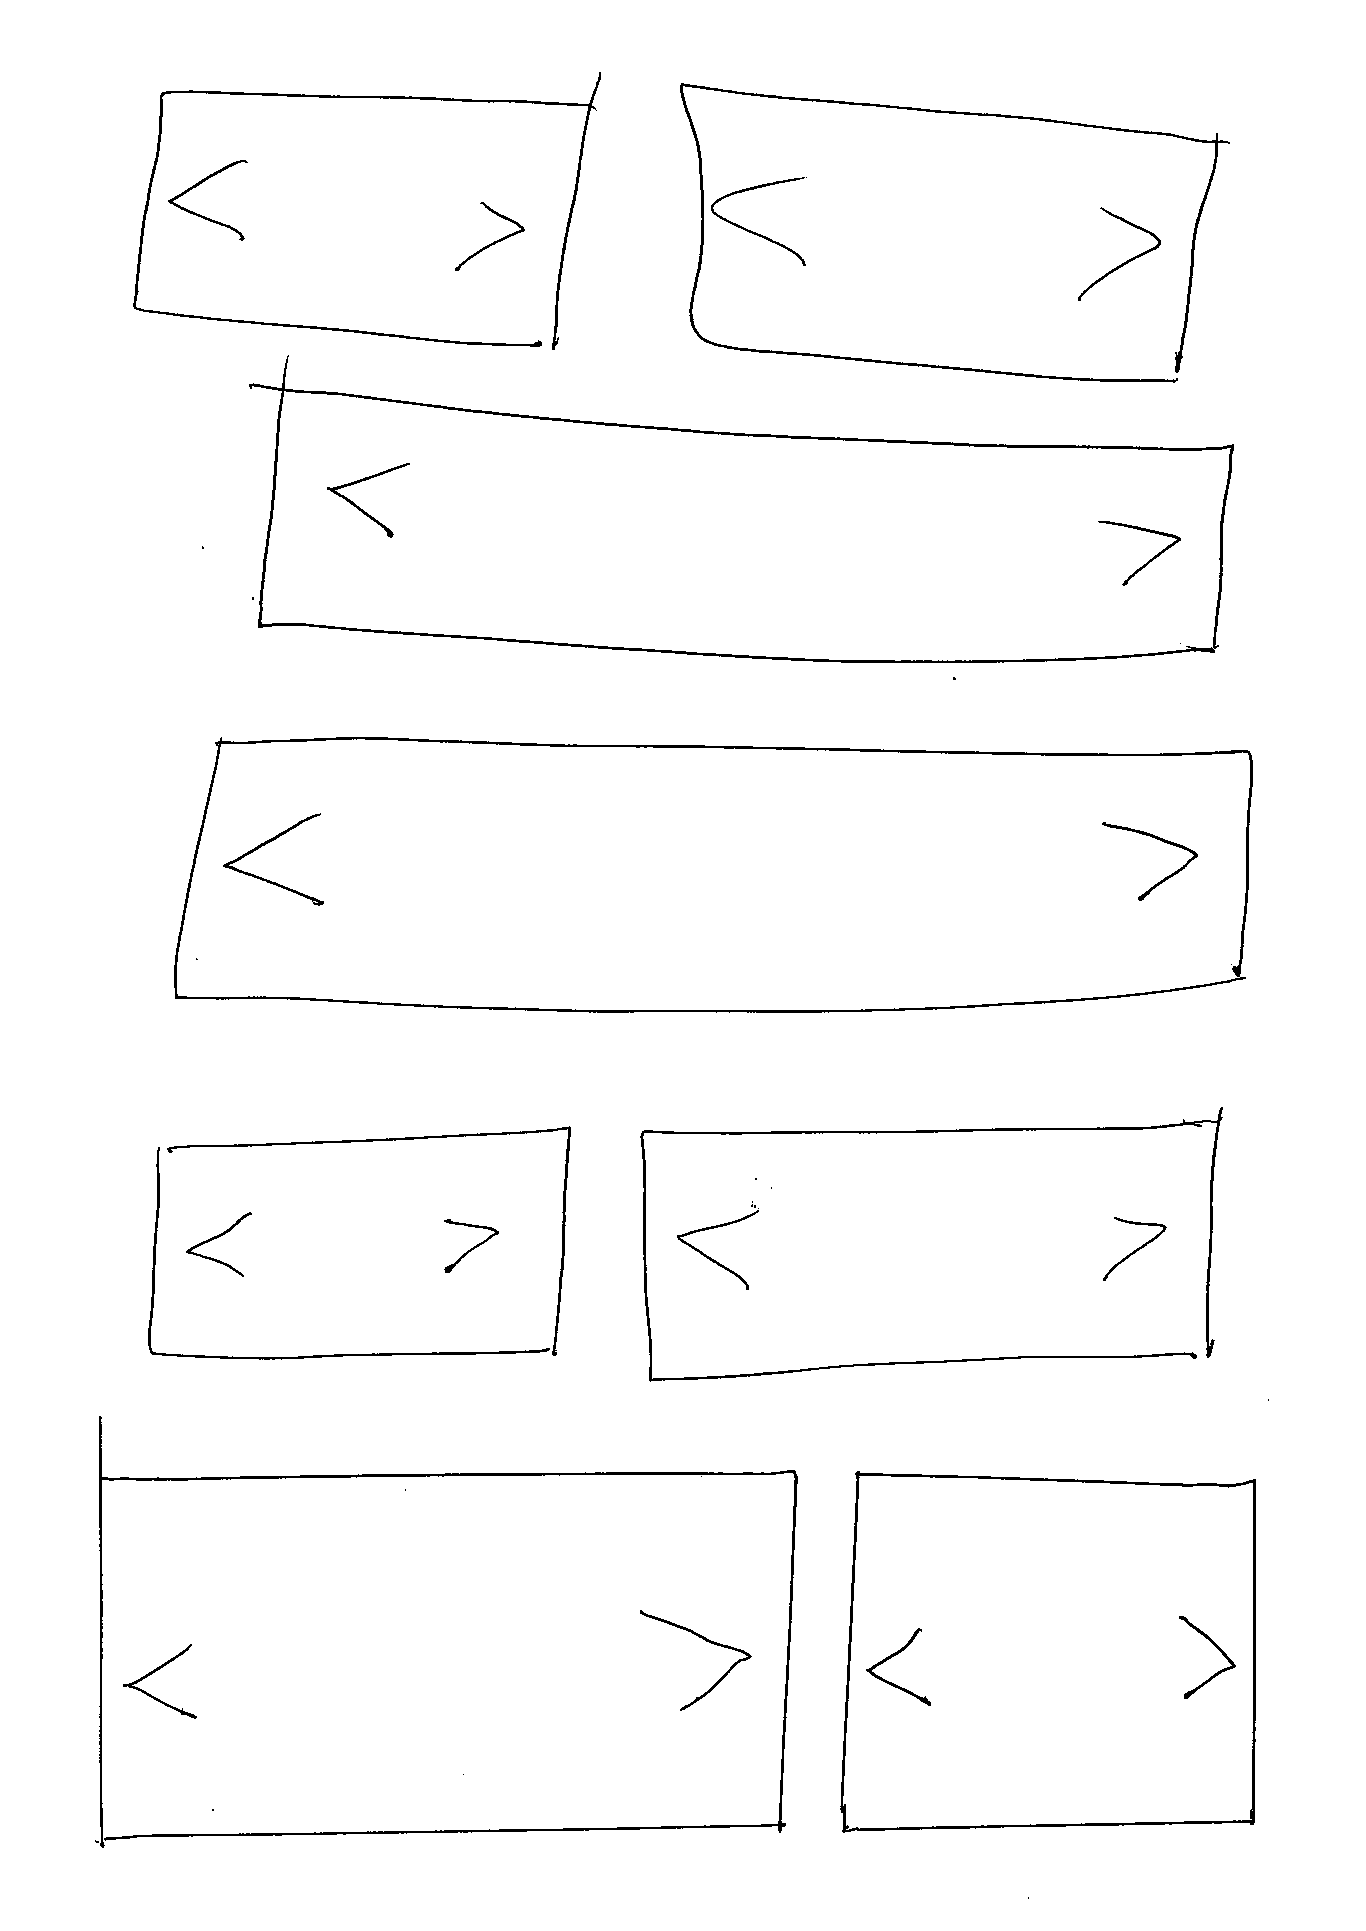Carousel: (166, 733, 1257, 1017), (259, 386, 1236, 671), (95, 1468, 798, 1850), (679, 81, 1223, 384), (639, 1113, 1223, 1390), (838, 1470, 1265, 1833), (132, 86, 596, 353), (143, 1119, 574, 1365)
